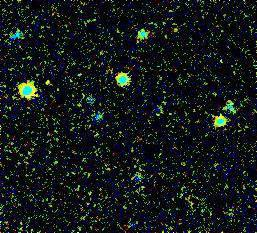star: (34, 69, 64, 99)
